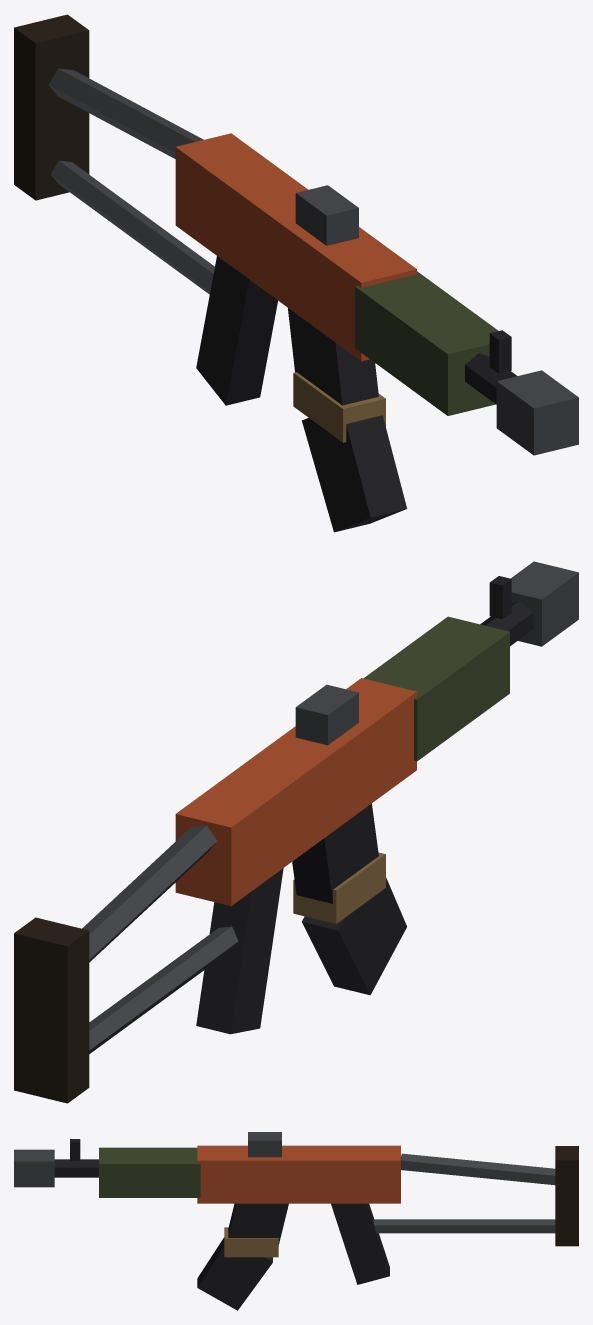
Rendered from scav_carbine.glb.
3 views of the same model, one above another, from view 1: azimuth 30°, elevation 25°; view 2: azimuth 150°, elevation 25°; view 3: azimuth 270°, elevation 25° (orthographic). The views are drawn at different scales.
Visible parts, largest first — view 1: scav_carbine; view 2: scav_carbine; view 3: scav_carbine.
Boxes of the visible parts, bbox=[...] form: scav_carbine: bbox=[14, 14, 578, 532]; scav_carbine: bbox=[14, 561, 578, 1103]; scav_carbine: bbox=[14, 1132, 578, 1310].
Bounding box in the file's own units: 0.058 × 0.2755 × 0.8325.
